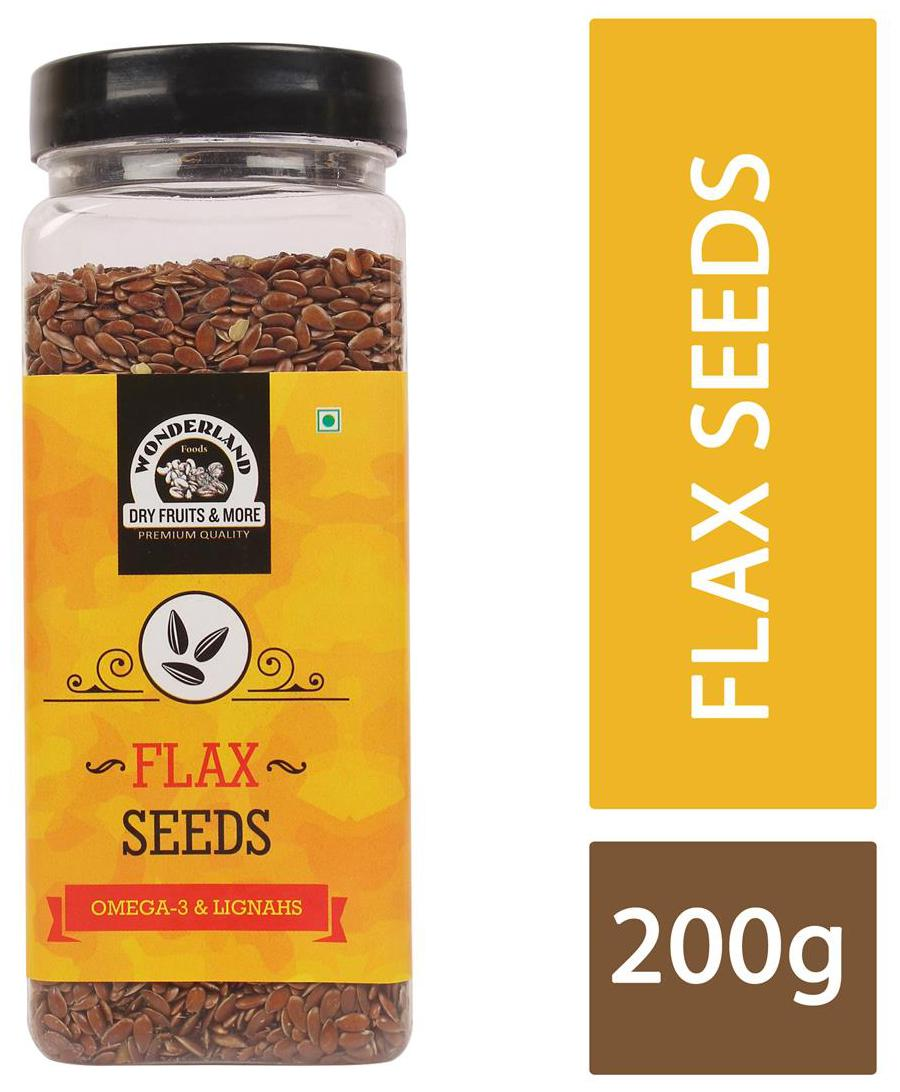JAR: (11, 37, 421, 1074)
